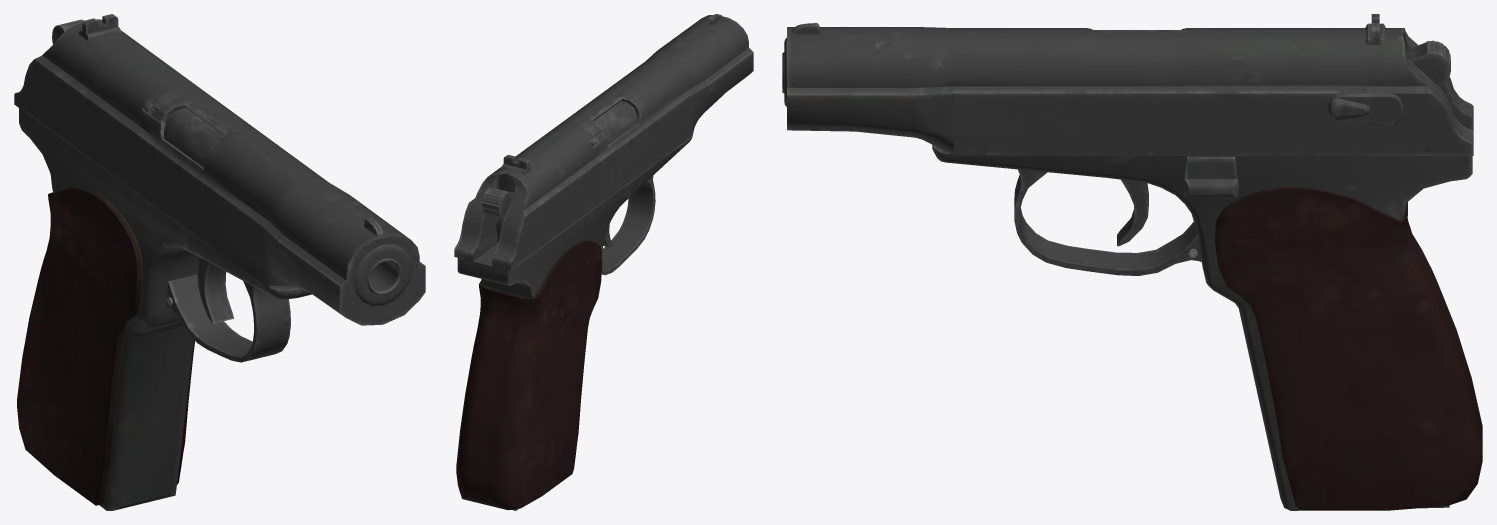
The model's file is handgun.glb.
3 renders of one model, left to right at view 1: azimuth 30°, elevation 25°; view 2: azimuth 150°, elevation 25°; view 3: azimuth 270°, elevation 25°, orthographic. The views are drawn at different scales.
Parts seen in each view (by area): view 1: handgun; view 2: handgun; view 3: handgun.
Boxes of the visible parts, bbox=[...] form: handgun: bbox=[14, 14, 425, 510]; handgun: bbox=[454, 14, 753, 510]; handgun: bbox=[782, 14, 1482, 510].
Size of the model in its own units: 0.0397 by 0.1934 by 0.26.
Materials: 1 (1 with a texture image).
